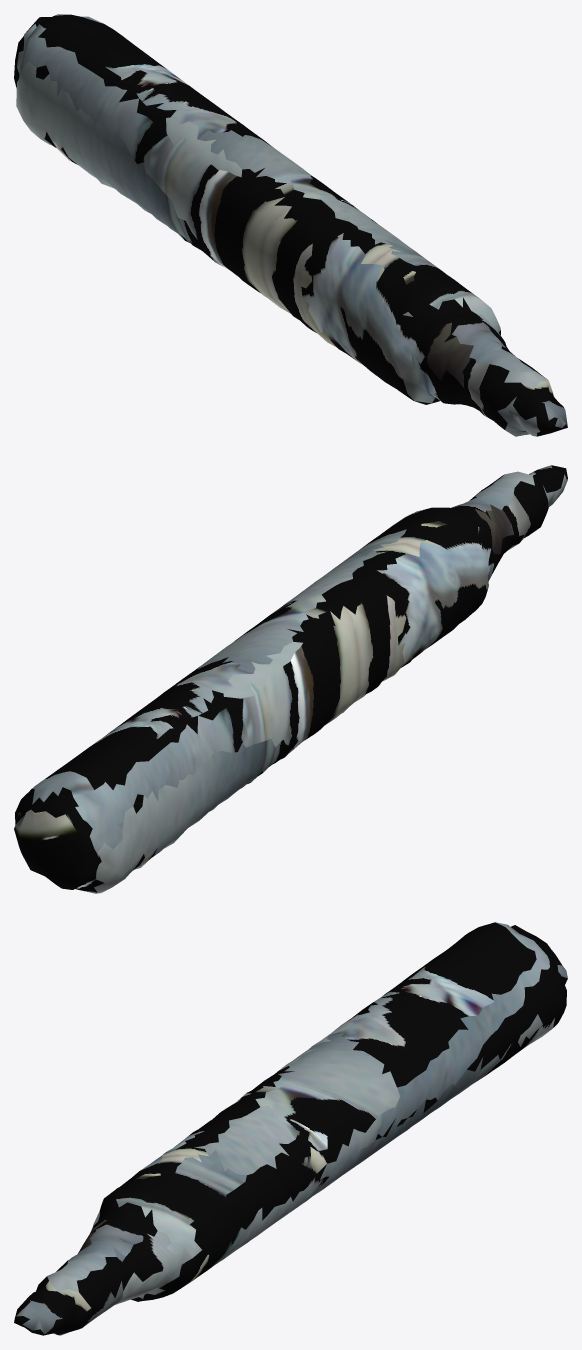
The model's file is scan_align.obj.
3 views of the same model, one above another, from view 1: azimuth 30°, elevation 25°; view 2: azimuth 150°, elevation 25°; view 3: azimuth 330°, elevation 25° (orthographic). The views are drawn at different scales.
Bounding box in the file's own units: 0.0155 × 0.016 × 0.1247.
